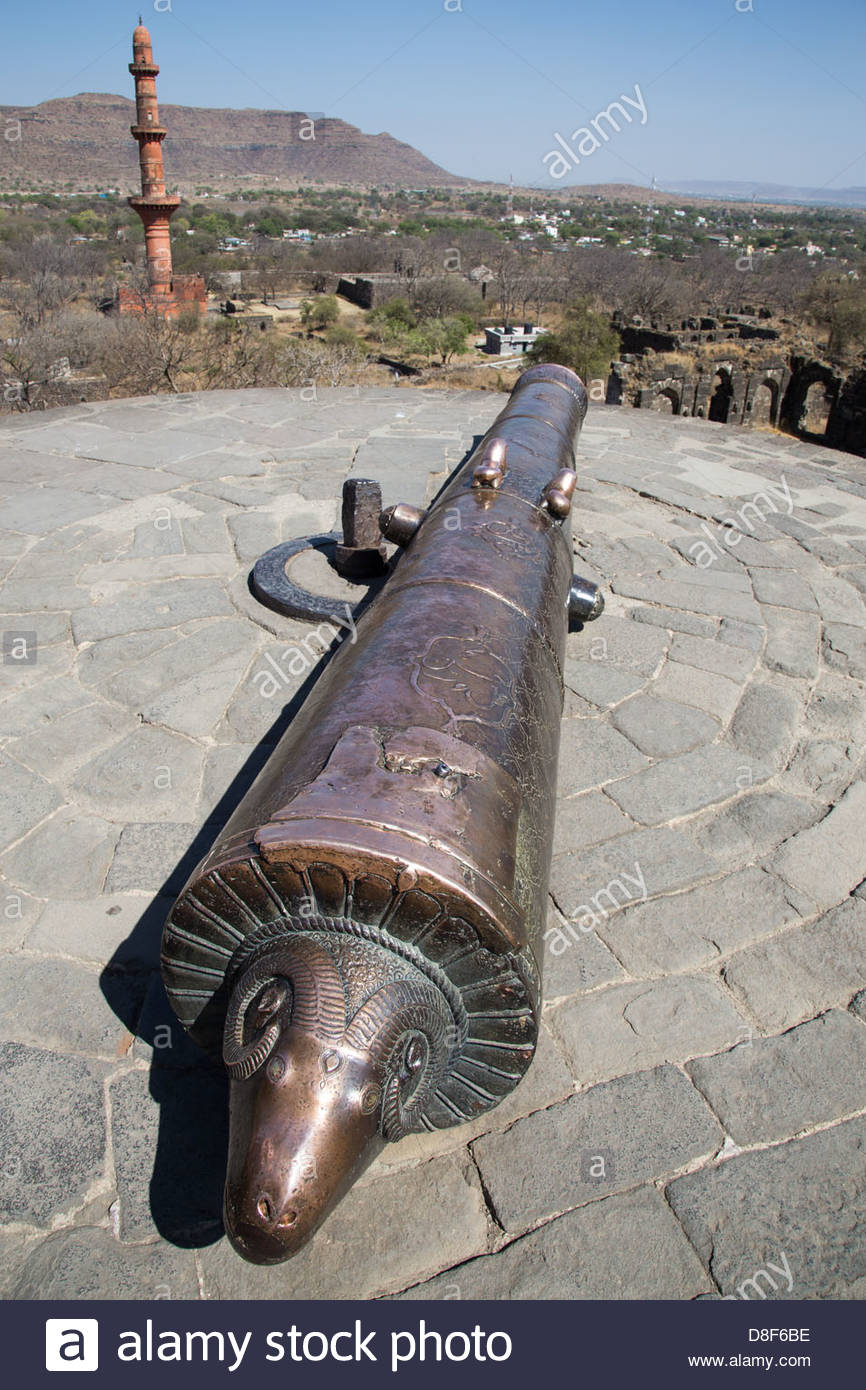Mendha Tope: (18, 9, 860, 1292)
